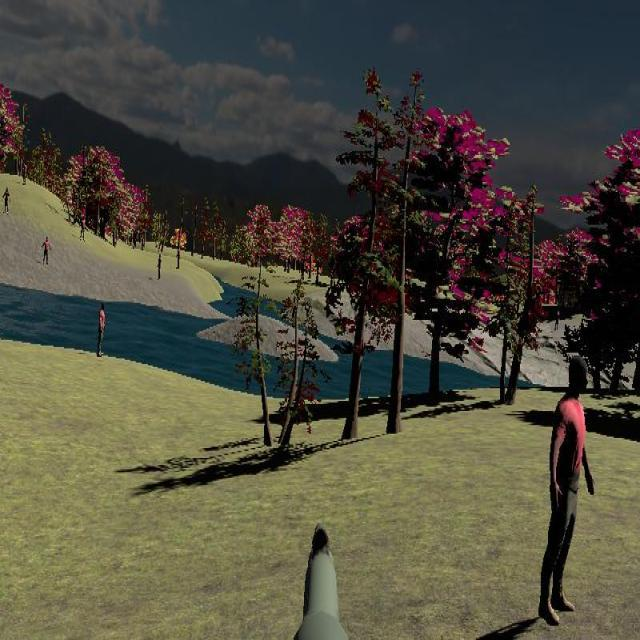Human: (541, 353, 594, 626)
